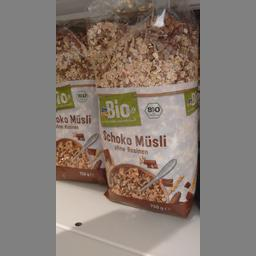cereal: (84, 12, 198, 220), (54, 20, 106, 186)
